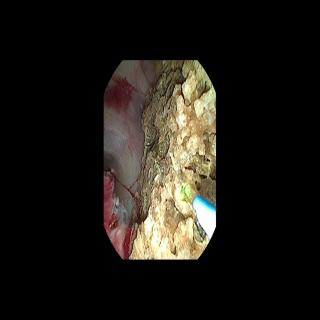fiber: (192, 196, 215, 212)
laser: (183, 185, 191, 199)
stone: (129, 63, 215, 256)
tissue: (106, 66, 148, 257)
